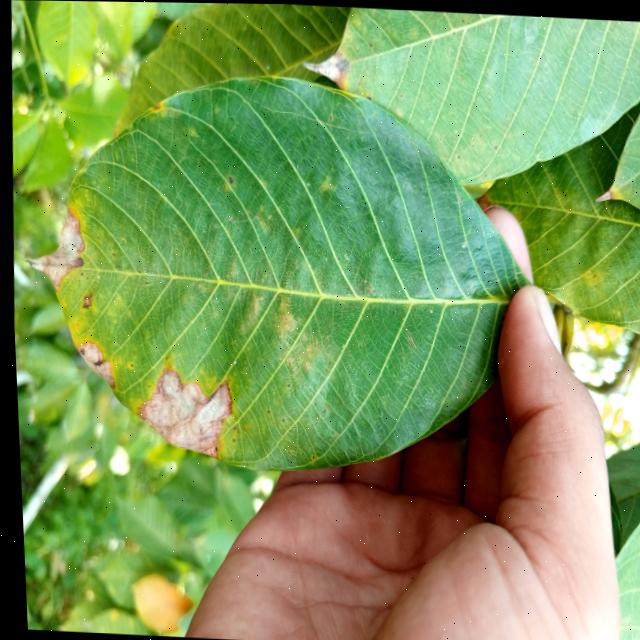Colletotrichum: (264, 408, 266, 411), (308, 453, 310, 456), (278, 417, 280, 419), (195, 427, 197, 429)
Leaf-Blight: (131, 366, 232, 457), (18, 207, 86, 292), (71, 340, 114, 387), (300, 45, 349, 86), (75, 256, 81, 264)
